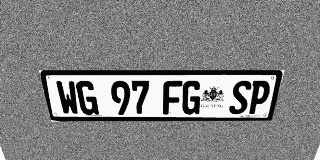7: (130, 81, 150, 115)
9: (110, 81, 131, 115)
F: (163, 81, 182, 115)
G: (75, 81, 99, 115), (181, 81, 202, 114)
P: (246, 81, 272, 114)
S: (228, 81, 253, 114)
W: (55, 81, 80, 115)
